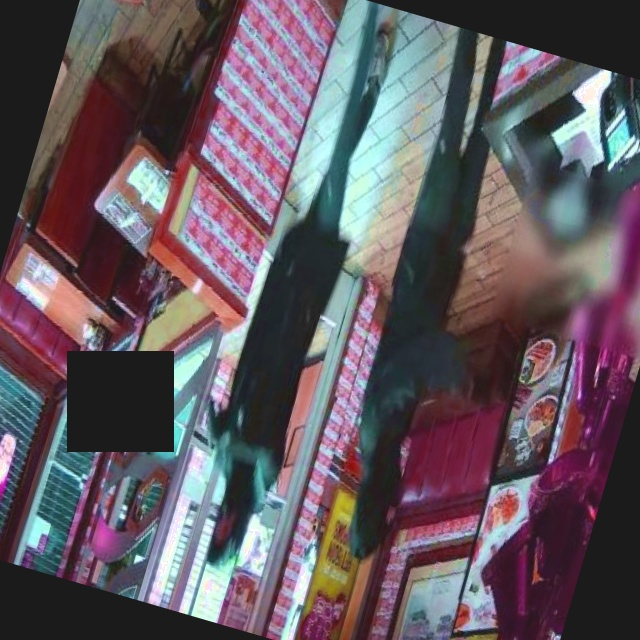gun: (193, 393, 242, 455)
